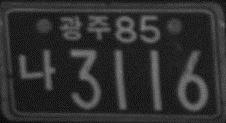1: (111, 48, 129, 112), (148, 48, 165, 112)
3: (68, 45, 101, 110)
5: (138, 14, 161, 44)
6: (175, 47, 209, 112)
8: (113, 14, 136, 44)
광주_O: (58, 13, 111, 42)
나: (16, 47, 57, 92)
